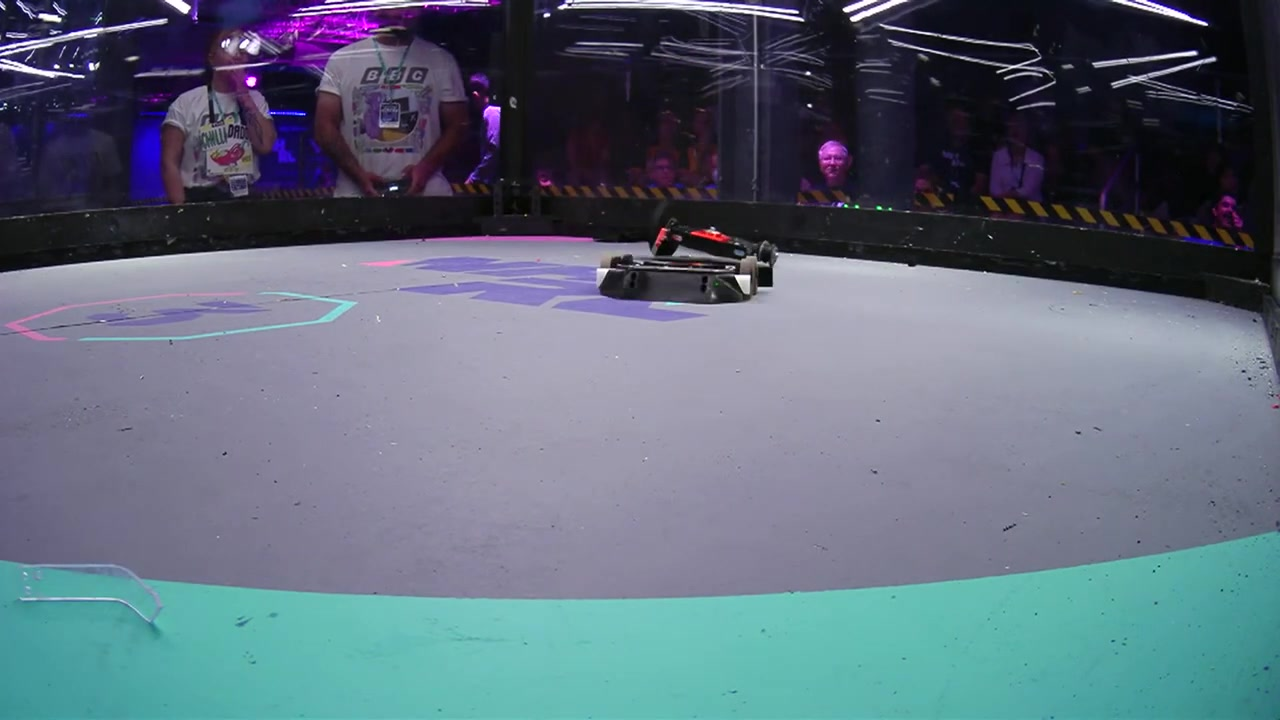combatbot: (596, 253, 772, 303), (649, 218, 780, 265)
debris: (16, 561, 163, 628)
